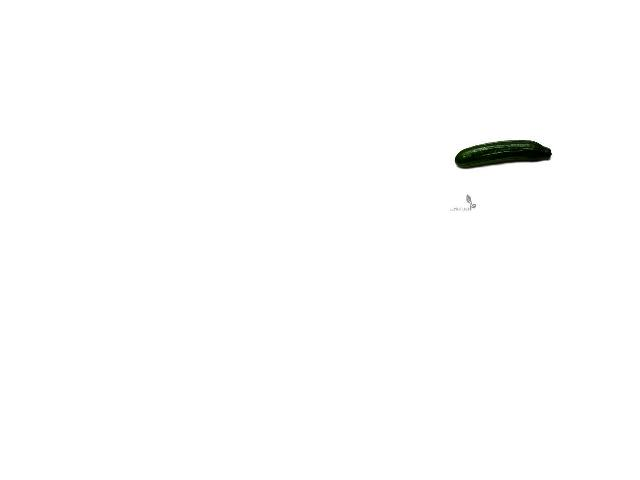cucumber: (454, 140, 551, 167)
